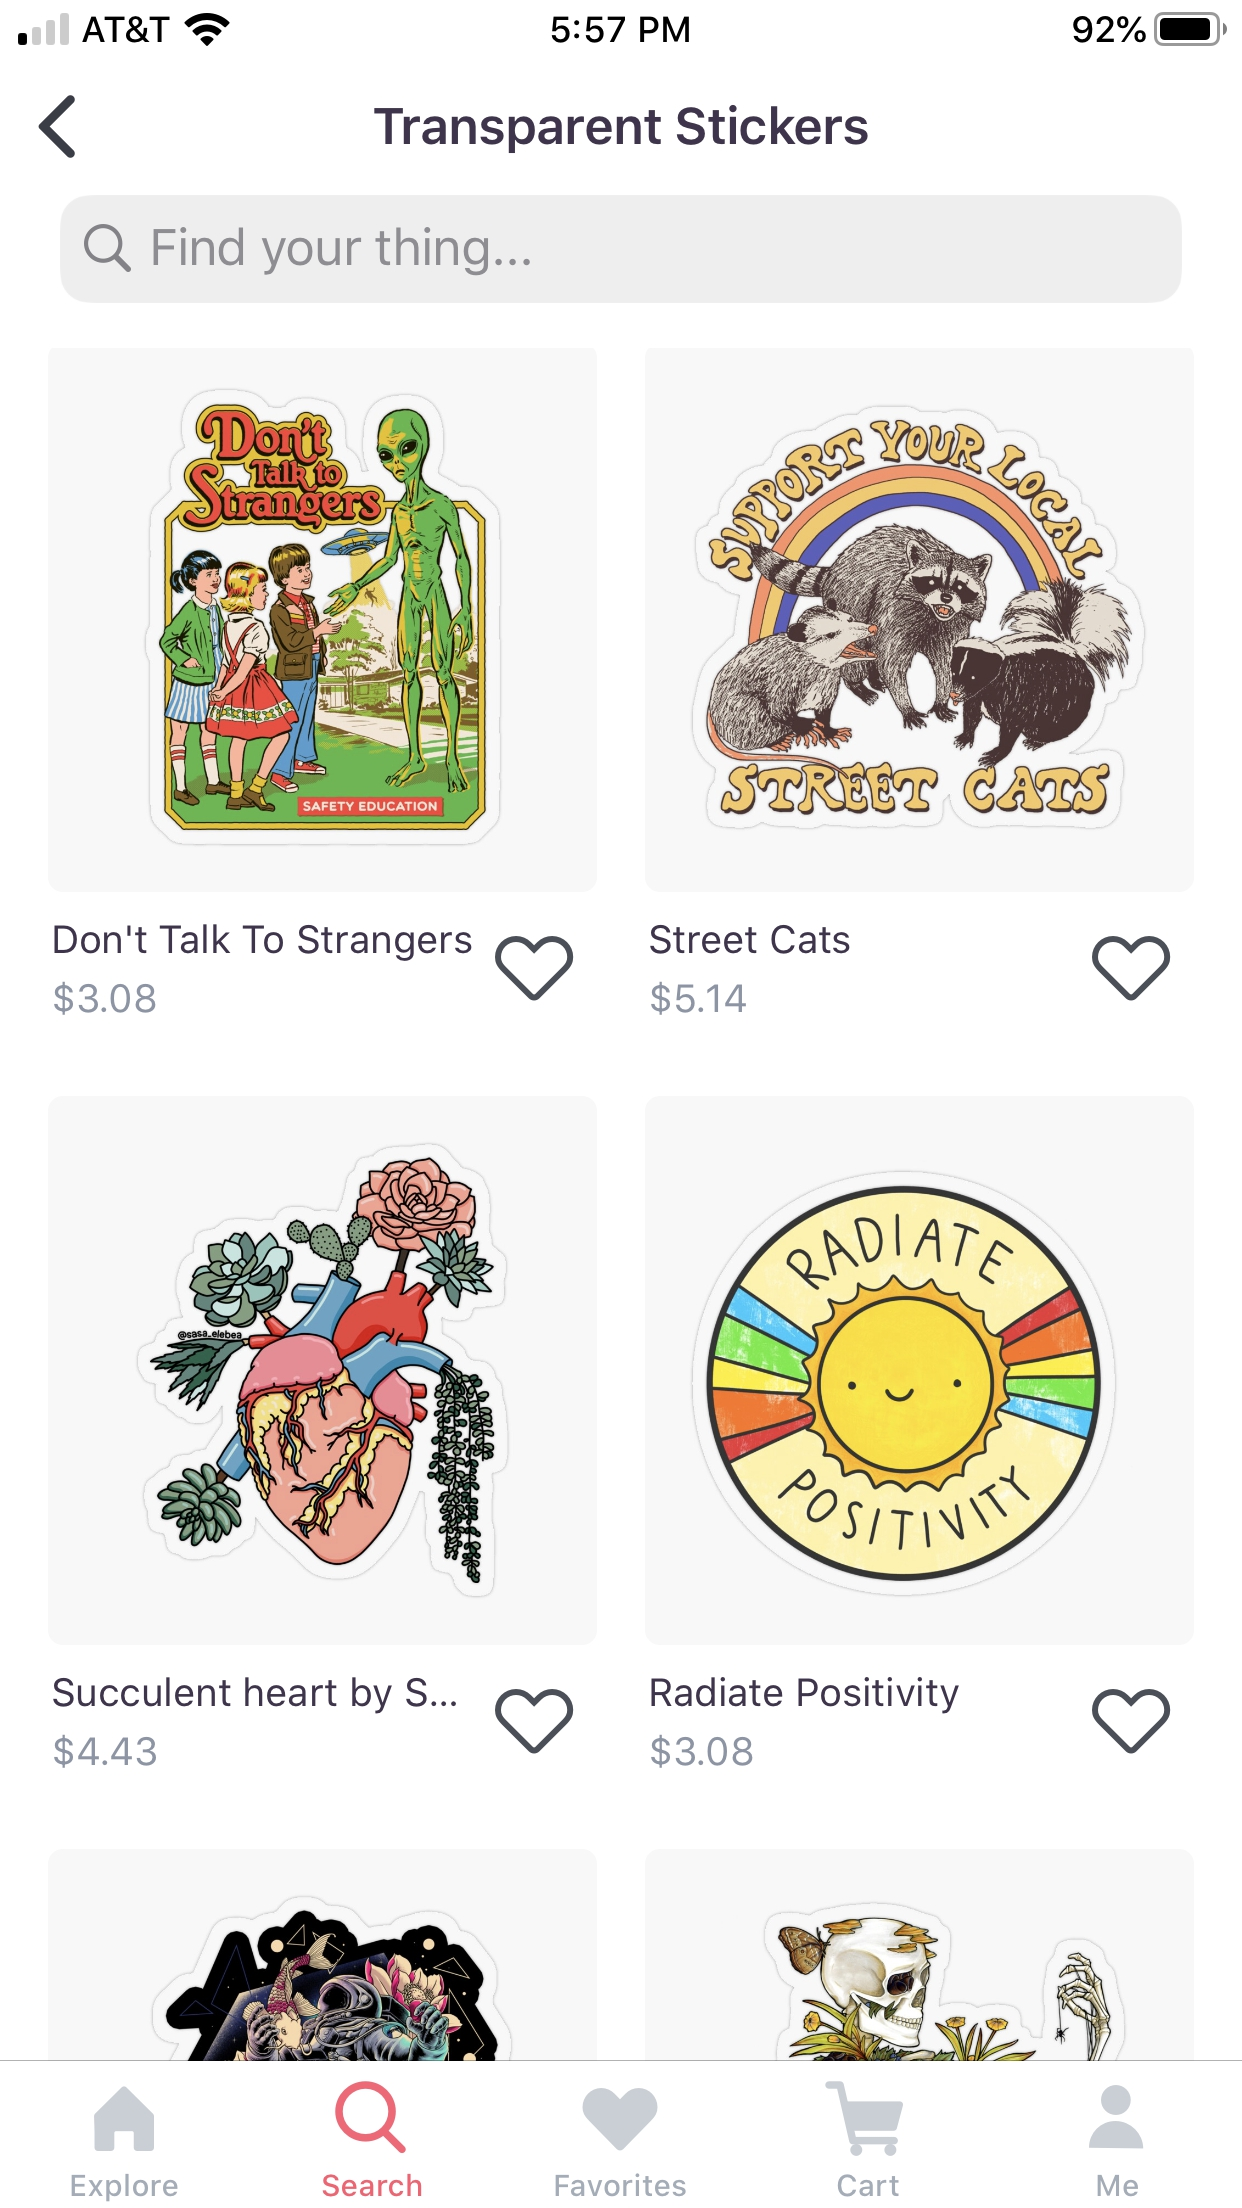EditText: (61, 196, 1181, 303)
Icon: (825, 2081, 902, 2156), (494, 1688, 575, 1755), (494, 936, 575, 1001), (1090, 1689, 1171, 1755), (335, 2081, 406, 2153), (1092, 936, 1171, 1001), (582, 2087, 658, 2150), (94, 2085, 155, 2150), (1089, 2085, 1143, 2149), (38, 96, 74, 158), (83, 224, 130, 271)
Image: (49, 1096, 597, 1645), (645, 1096, 1193, 1645), (645, 347, 1193, 892), (49, 347, 597, 892), (645, 1849, 1193, 2059), (49, 1849, 597, 2059)
Text: (375, 105, 867, 155), (153, 227, 529, 278), (55, 924, 472, 961), (53, 1677, 456, 1714), (651, 1677, 958, 1714), (651, 924, 851, 954), (651, 1733, 754, 1768), (55, 1733, 156, 1768), (55, 981, 156, 1015), (555, 2172, 685, 2197), (651, 981, 746, 1015), (71, 2173, 177, 2202), (321, 2173, 422, 2197), (837, 2173, 899, 2197), (1096, 2173, 1137, 2197)
UpperTaskBar: (2, 2, 1242, 49)
